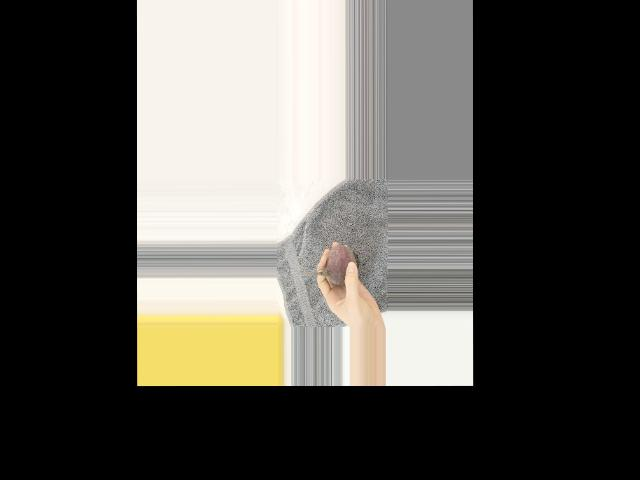beet: (298, 244, 360, 285)
